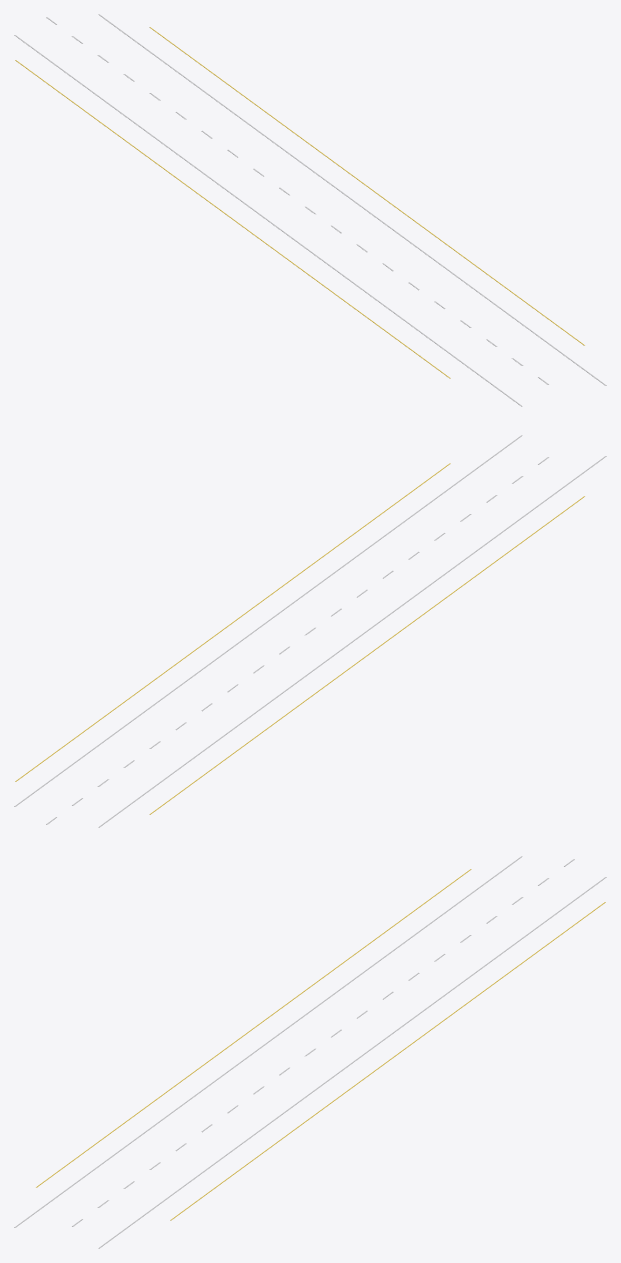
The model's file is bt-d2-markings.glb.
3 views of the same model, one above another, from view 1: azimuth 30°, elevation 25°; view 2: azimuth 150°, elevation 25°; view 3: azimuth 330°, elevation 25° (orthographic).
Visible parts, largest first — view 1: bt-d2-markings_edge-4.7, bt-d2-markings_edge4.7, bt-d2-markings_yard-7.5, bt-d2-markings_yard7.5; view 2: bt-d2-markings_edge-4.7, bt-d2-markings_edge4.7, bt-d2-markings_yard-7.5, bt-d2-markings_yard7.5; view 3: bt-d2-markings_edge-4.7, bt-d2-markings_edge4.7, bt-d2-markings_yard-7.5, bt-d2-markings_yard7.5.
Boxes of the visible parts, left/top/right/bottom form: bt-d2-markings_edge-4.7: left=14, top=35, right=522, bottom=406; bt-d2-markings_edge4.7: left=98, top=14, right=606, bottom=385; bt-d2-markings_yard-7.5: left=15, top=60, right=450, bottom=378; bt-d2-markings_yard7.5: left=149, top=27, right=584, bottom=345; bt-d2-markings_edge-4.7: left=98, top=456, right=606, bottom=827; bt-d2-markings_edge4.7: left=14, top=435, right=522, bottom=806; bt-d2-markings_yard-7.5: left=149, top=496, right=584, bottom=814; bt-d2-markings_yard7.5: left=15, top=463, right=450, bottom=781; bt-d2-markings_edge-4.7: left=14, top=856, right=522, bottom=1227; bt-d2-markings_edge4.7: left=98, top=877, right=606, bottom=1248; bt-d2-markings_yard-7.5: left=36, top=869, right=471, bottom=1187; bt-d2-markings_yard7.5: left=170, top=902, right=605, bottom=1220.
Size of the model in its own units: 15.12 by 0.012 by 100.
